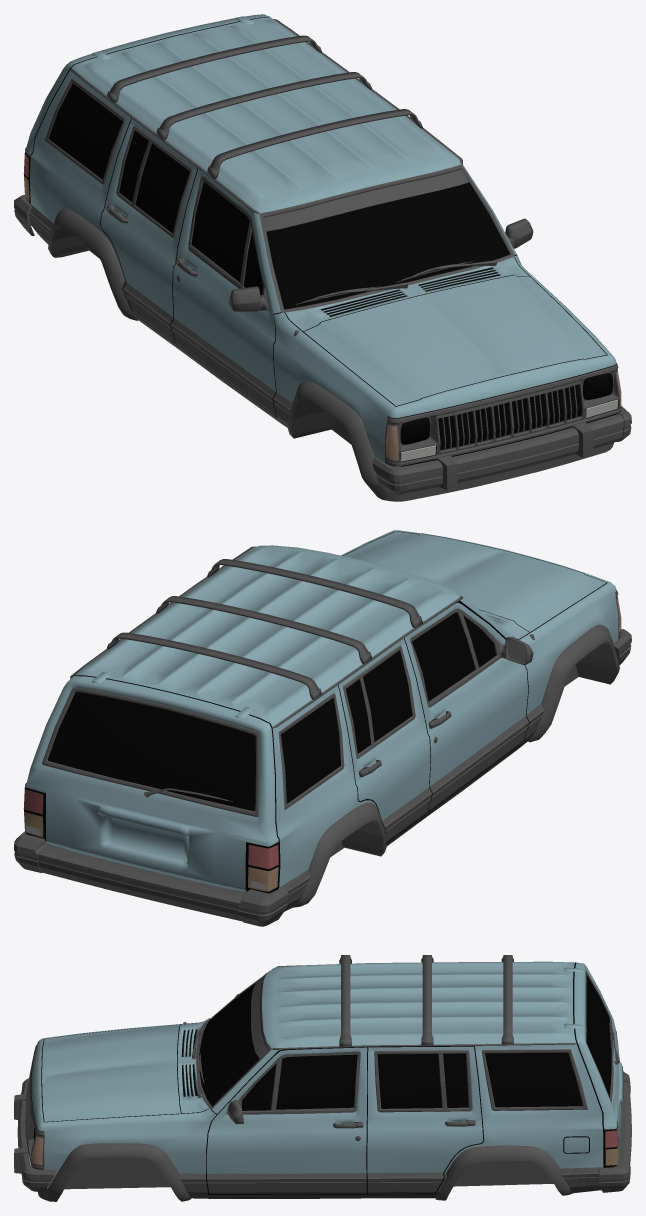
The picture shows the model from 3 angles, top to bottom: view 1: azimuth 30°, elevation 25°; view 2: azimuth 150°, elevation 25°; view 3: azimuth 270°, elevation 25°; orthographic projection. The views are drawn at different scales.
Parts seen in each view (by area): view 1: cherokee02, cherokee24, cherokee03, cherokee20, cherokee04, cherokee26, cherokee08, cherokee01, Radiator, cherokee05, cherokee25, cherokee23 (+3 smaller); view 2: cherokee02, cherokee24, cherokee03, cherokee26, cherokee08, cherokee04, cherokee01, cherokee23, cherokee05, cherokee17, cherokee16; view 3: cherokee02, cherokee24, cherokee03, cherokee26, cherokee04, cherokee23, cherokee01, cherokee08, cherokee05, cherokee20, cherokee25, cherokee06.
Part boxes in pixels (bbox=[...]): cherokee02: bbox=[25, 14, 616, 462]; cherokee24: bbox=[49, 83, 510, 309]; cherokee03: bbox=[14, 194, 631, 495]; cherokee20: bbox=[385, 363, 621, 466]; cherokee04: bbox=[48, 208, 613, 501]; cherokee26: bbox=[44, 78, 514, 312]; cherokee08: bbox=[109, 35, 419, 281]; cherokee01: bbox=[23, 16, 620, 466]; Radiator: bbox=[438, 384, 581, 449]; cherokee05: bbox=[70, 19, 533, 336]; cherokee25: bbox=[263, 169, 468, 231]; cherokee23: bbox=[51, 226, 351, 444]; cherokee02: bbox=[25, 530, 618, 892]; cherokee24: bbox=[48, 612, 496, 810]; cherokee03: bbox=[14, 629, 631, 926]; cherokee26: bbox=[42, 608, 501, 816]; cherokee08: bbox=[109, 559, 437, 743]; cherokee04: bbox=[292, 624, 619, 907]; cherokee01: bbox=[24, 531, 620, 893]; cherokee23: bbox=[330, 641, 617, 856]; cherokee05: bbox=[70, 546, 534, 777]; cherokee17: bbox=[24, 788, 278, 868]; cherokee16: bbox=[24, 811, 278, 891]; cherokee02: bbox=[31, 961, 623, 1189]; cherokee24: bbox=[199, 974, 611, 1110]; cherokee03: bbox=[14, 1071, 631, 1198]; cherokee26: bbox=[196, 970, 613, 1114]; cherokee04: bbox=[38, 1143, 572, 1201]; cherokee23: bbox=[64, 1157, 553, 1189]; cherokee01: bbox=[31, 962, 618, 1194]; cherokee08: bbox=[339, 955, 513, 1140]; cherokee05: bbox=[183, 960, 576, 1128]; cherokee20: bbox=[25, 1045, 44, 1169]; cherokee25: bbox=[251, 976, 268, 1058]; cherokee06: bbox=[192, 1019, 619, 1097].
Bounding box in the file's own units: 2 × 1.33 × 4.44.
